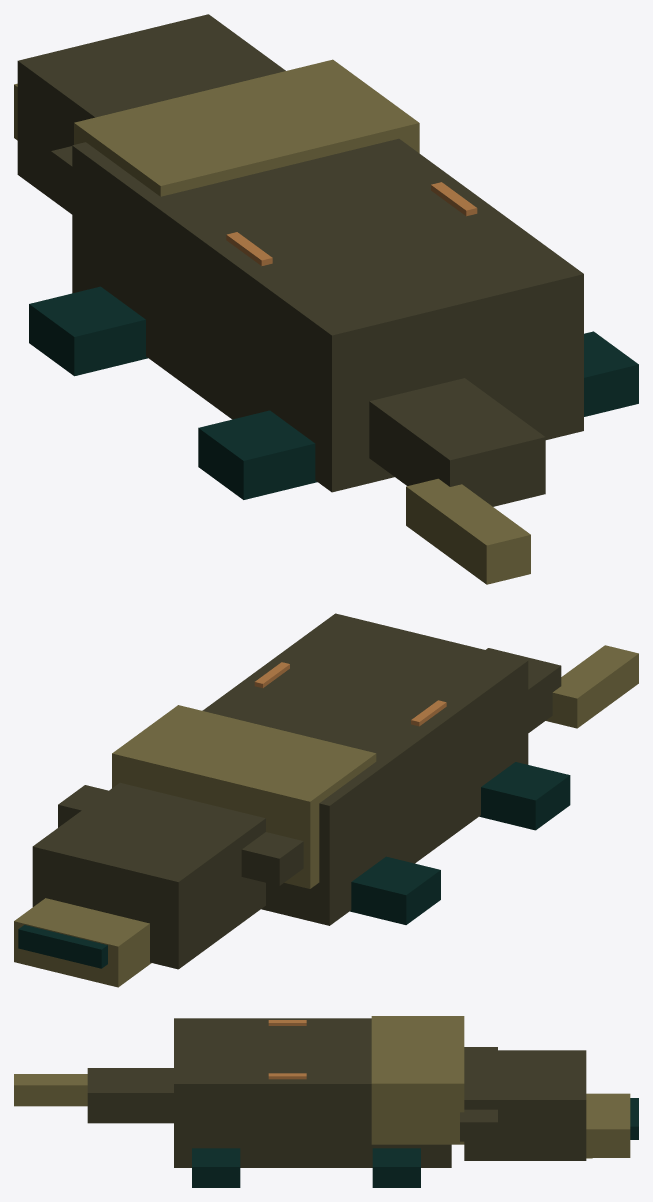
The model's file is spread-furrowstalker-remains.fbx.
The picture shows the model from 3 angles, top to bottom: view 1: azimuth 30°, elevation 25°; view 2: azimuth 150°, elevation 25°; view 3: azimuth 270°, elevation 25°; orthographic projection. The views are drawn at different scales.
Parts seen in each view (by area): view 1: spread-furrowstalker-remains__Geometry; view 2: spread-furrowstalker-remains__Geometry; view 3: spread-furrowstalker-remains__Geometry.
Boxes of the visible parts, x1,y1,x2,y2 form: spread-furrowstalker-remains__Geometry: [14, 14, 638, 584]; spread-furrowstalker-remains__Geometry: [14, 613, 638, 987]; spread-furrowstalker-remains__Geometry: [14, 1016, 638, 1187].
Size of the model in its own units: 0.58 by 0.2385 by 1.49.
Materials: 1 (1 with a texture image).
